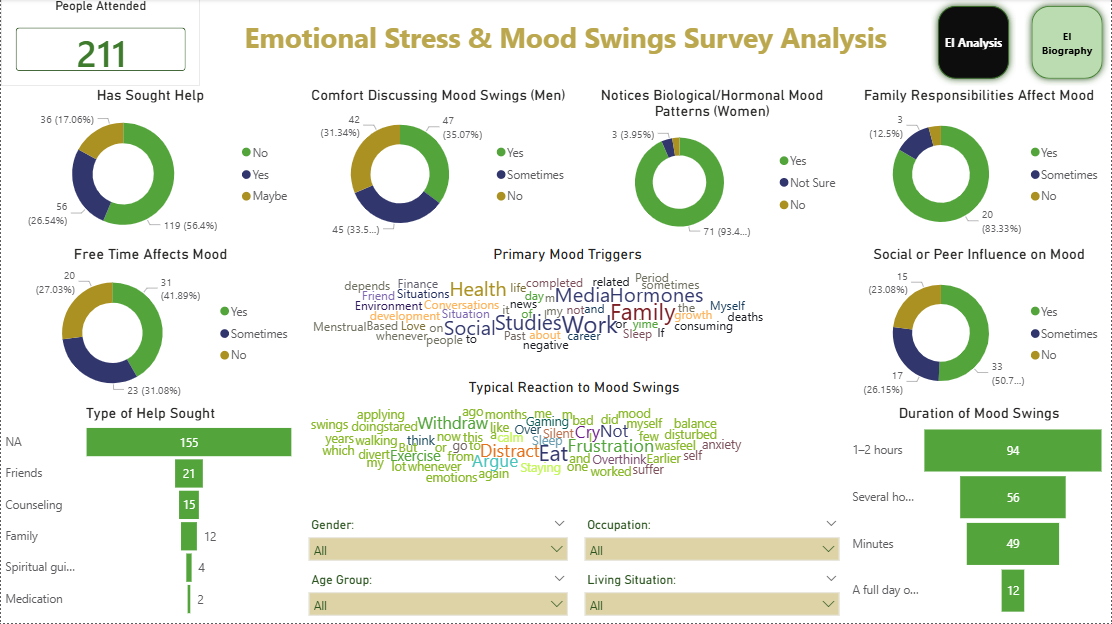

Layout of this report page (visuals, bound fields, positions):
{"tool":"powerbi","page":{"name":"EI Analysis","canvas":[1280,720],"ordinal":0},"visuals":[{"type":"cardVisual","title":"People Attended","fields":{"Data":["CountNonNull(cleaned_EI_survey_data.Id)"]},"box":[0,0,230,100],"z":0},{"type":"textbox","box":[230,0,843.8,100],"z":1000},{"type":"pageNavigator","box":[1073.3,0,206.7,100],"z":2000},{"type":"donutChart","title":"Has Sought Help","fields":{"Category":["cleaned_EI_survey_data.Have you ever sought help?"],"Y":["CountNonNull(cleaned_EI_survey_data.Have you ever sought help?)"]},"box":[0,100,345,183.8],"z":3000},{"type":"donutChart","title":"Comfort Discussing Mood Swings (Men)","fields":{"Category":["cleaned_EI_survey_data.Do you think men feel comfortable discussing mood swings?"],"Y":["CountNonNull(cleaned_EI_survey_data.Do you think men feel comfortable discussing mood swings?)"]},"box":[345,100,318.8,183.8],"z":4000},{"type":"donutChart","title":"Notices Biological/Hormonal Mood Patterns (Women)","fields":{"Category":["cleaned_EI_survey_data.Do you notice mood changes linked to hormonal or biological cycles?"],"Y":["CountNonNull(cleaned_EI_survey_data.Do you notice mood changes linked to hormonal or biological cycles?)"]},"box":[663.8,100,313.8,183.8],"z":5000},{"type":"donutChart","title":"Family Responsibilities Affect Mood","fields":{"Category":["cleaned_EI_survey_data.Do family responsibilities contribute to your mood swings?"],"Y":["CountNonNull(cleaned_EI_survey_data.Do family responsibilities contribute to your mood swings?)"]},"box":[977.5,100,302.5,183.8],"z":6000},{"type":"donutChart","title":"Free Time Affects Mood","fields":{"Category":["cleaned_EI_survey_data.Do you feel extra free time increases mood swings?"],"Y":["CountNonNull(cleaned_EI_survey_data.Do you feel extra free time increases mood swings?)"]},"box":[0,283.8,345,183.8],"z":7000},{"type":"donutChart","title":"Social or Peer Influence on Mood","fields":{"Category":["cleaned_EI_survey_data.Do social conflicts or peer influence affect your moods?"],"Y":["CountNonNull(cleaned_EI_survey_data.Do social conflicts or peer influence affect your moods?)"]},"box":[977.5,283.8,302.5,183.8],"z":8000},{"type":"funnel","title":"Type of Help Sought","fields":{"Category":["cleaned_EI_survey_data.If yes, what kind of help?"],"Y":["CountNonNull(cleaned_EI_survey_data.If yes, what kind of help?)"]},"box":[0,467.5,345,250],"z":9000},{"type":"funnel","title":"Duration of Mood Swings","fields":{"Category":["cleaned_EI_survey_data.How long do they usually last?"],"Y":["CountNonNull(cleaned_EI_survey_data.How long do they usually last?)"]},"box":[977.5,467.5,302.5,250],"z":10000},{"type":"WordCloud1447959067750","title":"Primary Mood Triggers","fields":{"Category":["cleaned_EI_survey_data.What are the main triggers?"],"Values":["Min(cleaned_EI_survey_data.What are the main triggers?)"]},"box":[345,283.8,632.5,153.8],"z":11000},{"type":"WordCloud1447959067750","title":"Typical Reaction to Mood Swings","fields":{"Category":["cleaned_EI_survey_data.How do you usually react?"],"Values":["Min(cleaned_EI_survey_data.How do you usually react?)"]},"box":[345,437.5,632.5,155],"z":12000},{"type":"slicer","fields":{"Values":["cleaned_EI_survey_data.Gender:"]},"box":[345,592.5,318.8,63.8],"z":13000},{"type":"slicer","fields":{"Values":["cleaned_EI_survey_data.Age Group:"]},"box":[345,656.2,318.8,63.8],"z":14000},{"type":"slicer","fields":{"Values":["cleaned_EI_survey_data.Living Situation:"]},"box":[663.8,656.2,313.8,63.8],"z":15000},{"type":"slicer","fields":{"Values":["cleaned_EI_survey_data.Occupation:"]},"box":[663.8,592.5,313.8,63.8],"z":16000}]}

Visuals, with their boxes in screenshot pixels (x1, y1, x2, y2), scaled from the page's 1280x720 canvas onto the 1112x624 screenshot:
"People Attended" cardVisual: rect(0, 0, 200, 87)
textbox: rect(200, 0, 933, 87)
pageNavigator: rect(932, 0, 1111, 87)
"Has Sought Help" donutChart: rect(0, 87, 300, 246)
"Comfort Discussing Mood Swings (Men)" donutChart: rect(300, 87, 577, 246)
"Notices Biological/Hormonal Mood Patterns (Women)" donutChart: rect(577, 87, 849, 246)
"Family Responsibilities Affect Mood" donutChart: rect(849, 87, 1111, 246)
"Free Time Affects Mood" donutChart: rect(0, 246, 300, 405)
"Social or Peer Influence on Mood" donutChart: rect(849, 246, 1111, 405)
"Type of Help Sought" funnel: rect(0, 405, 300, 622)
"Duration of Mood Swings" funnel: rect(849, 405, 1111, 622)
"Primary Mood Triggers" WordCloud1447959067750: rect(300, 246, 849, 379)
"Typical Reaction to Mood Swings" WordCloud1447959067750: rect(300, 379, 849, 514)
slicer - cleaned_EI_survey_data.Gender:: rect(300, 514, 577, 569)
slicer - cleaned_EI_survey_data.Age Group:: rect(300, 569, 577, 623)
slicer - cleaned_EI_survey_data.Living Situation:: rect(577, 569, 849, 623)
slicer - cleaned_EI_survey_data.Occupation:: rect(577, 514, 849, 569)
